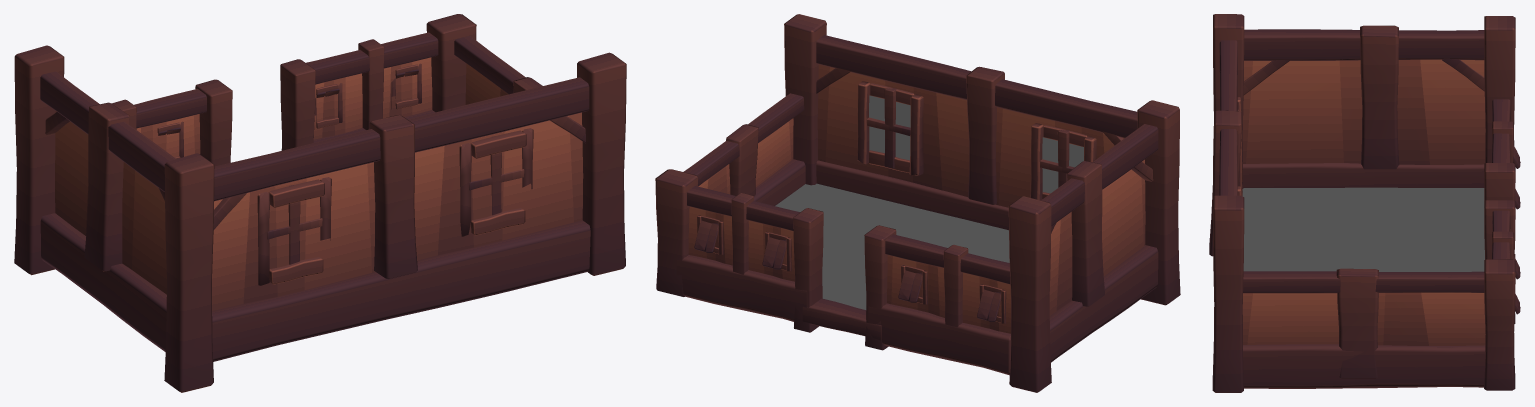
The model's file is CleanClass.fbx.
The picture shows the model from 3 angles, left to right: view 1: azimuth 30°, elevation 25°; view 2: azimuth 150°, elevation 25°; view 3: azimuth 270°, elevation 25°; orthographic projection. The views are drawn at different scales.
Visible parts, largest first — view 1: Cube_020__5_, Cube, Cube__13_, Cube_020, Pillar_3, Pillar_2, Pillar_6, Cube__2_, Cube_020__7_, Pillar_9, Pillar_7, Cube_020__2_ (+17 smaller); view 2: Floor, Cube, Cube_020, Pillar_6, Pillar_3, Cube__2_, Cube_020__9_, Cube_020__8_, Cube_020__7_, Cube_020__5_, Pillar_2, Pillar_7 (+29 smaller); view 3: Cube__2_, Floor, Cube__1_, Cube_020__6_, Cube_020__2_, Pillar_2, Cube_020__7_, Pillar_7, Cube_020__1_, Pillar_8, Pillar_1, Pillar_6 (+11 smaller).
Part boxes in pixels (box(x1,y1,x2,y2)): Cube_020__5_: box(212, 220, 590, 361); Cube: box(414, 112, 583, 260); Cube__13_: box(212, 162, 375, 310); Cube_020: box(214, 77, 589, 201); Pillar_3: box(164, 153, 214, 392); Pillar_2: box(577, 52, 626, 275); Pillar_6: box(14, 45, 64, 275); Cube__2_: box(55, 111, 166, 294); Cube_020__7_: box(40, 213, 166, 351); Pillar_9: box(369, 115, 417, 279); Pillar_7: box(84, 102, 129, 271); Cube_020__2_: box(40, 71, 176, 191); Floor: box(775, 183, 1009, 309); Cube: box(817, 64, 969, 196); Cube_020: box(816, 35, 1137, 138); Pillar_6: box(1008, 196, 1051, 392); Pillar_3: box(1137, 100, 1180, 305); Cube__2_: box(1049, 159, 1145, 315); Cube_020__9_: box(868, 303, 1011, 375); Cube_020__8_: box(676, 255, 807, 321); Cube_020__7_: box(1049, 245, 1158, 362); Cube_020__5_: box(816, 160, 1008, 230); Pillar_2: box(784, 14, 826, 185); Pillar_7: box(1067, 161, 1104, 306); Cube__2_: box(1242, 59, 1485, 164); Floor: box(1242, 187, 1484, 271); Cube__1_: box(1242, 292, 1485, 345); Cube_020__6_: box(1243, 344, 1485, 388); Cube_020__2_: box(1244, 29, 1484, 60); Pillar_2: box(1212, 195, 1244, 392); Cube_020__7_: box(1243, 163, 1484, 187); Pillar_7: box(1360, 25, 1399, 169); Cube_020__1_: box(1243, 271, 1484, 293); Pillar_8: box(1336, 268, 1378, 378); Pillar_1: box(1484, 259, 1515, 390); Pillar_6: box(1484, 16, 1515, 163).
Size of the model in its own units: 3425 by 1621 by 2278.
